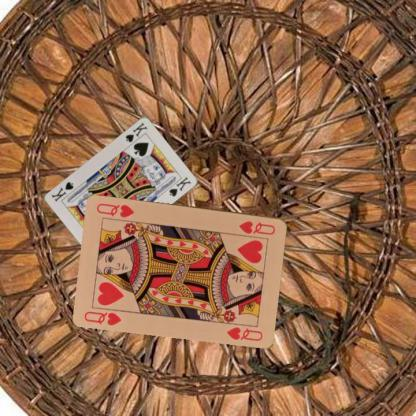Ks: (123, 120, 149, 143)
Qh: (236, 218, 277, 236), (82, 308, 123, 326)
